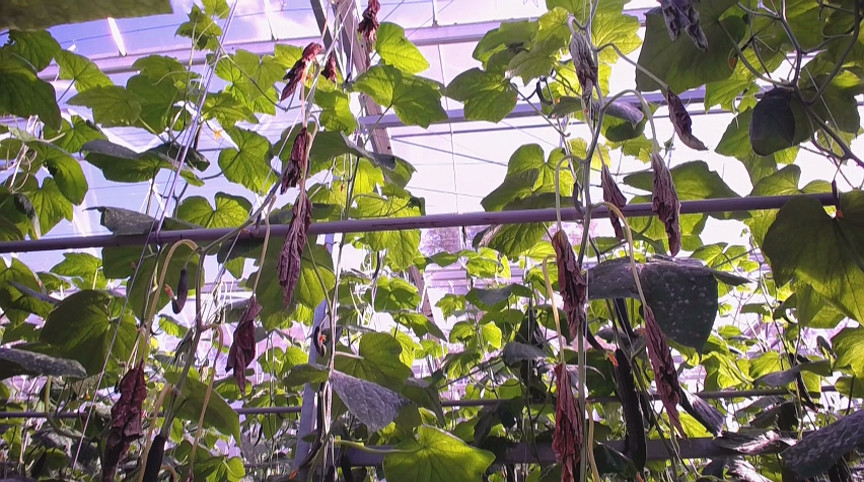cucumber: (614, 351, 646, 470)
